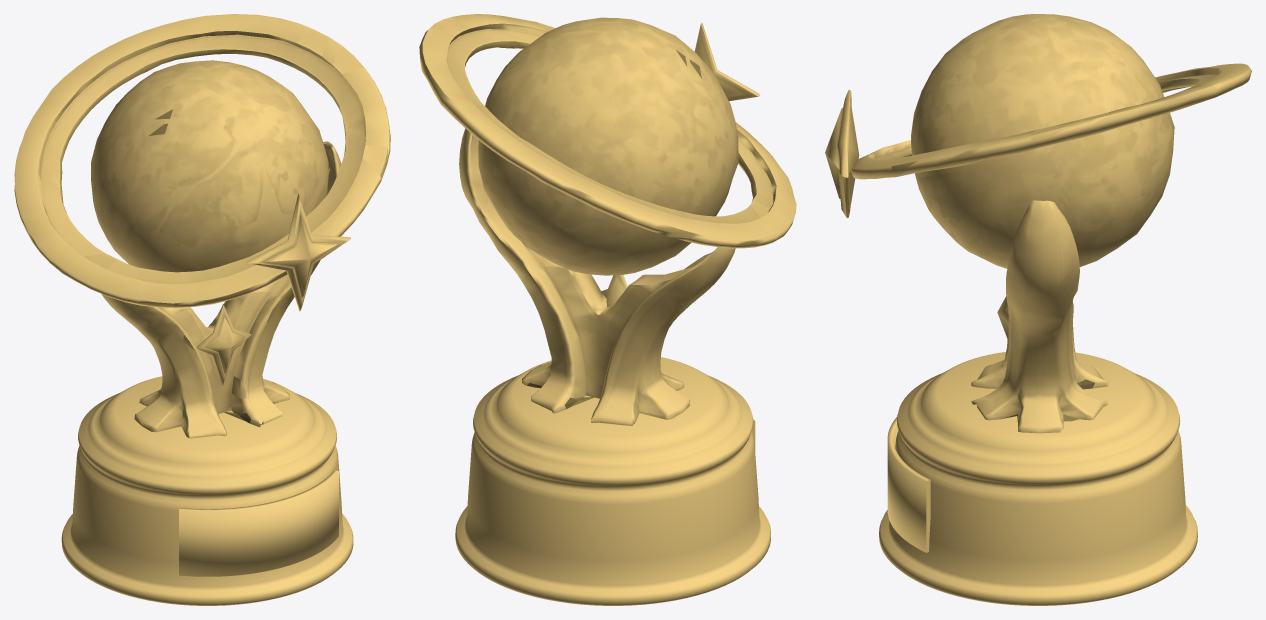
Rendered from golden_honor.glb.
The picture shows the model from 3 angles, left to right: view 1: azimuth 30°, elevation 25°; view 2: azimuth 150°, elevation 25°; view 3: azimuth 270°, elevation 25°; orthographic projection. The views are drawn at different scales.
Parts seen in each view (by area): view 1: golden_honor_AO_candidate; view 2: golden_honor_AO_candidate; view 3: golden_honor_AO_candidate.
Boxes of the visible parts, box(x1,y1,x2,y2) form: golden_honor_AO_candidate: box(14, 14, 390, 605); golden_honor_AO_candidate: box(419, 14, 796, 605); golden_honor_AO_candidate: box(825, 14, 1251, 605).
Size of the model in its own units: 0.6872 by 1 by 0.7472.
Materials: 2 (1 with a texture image).
